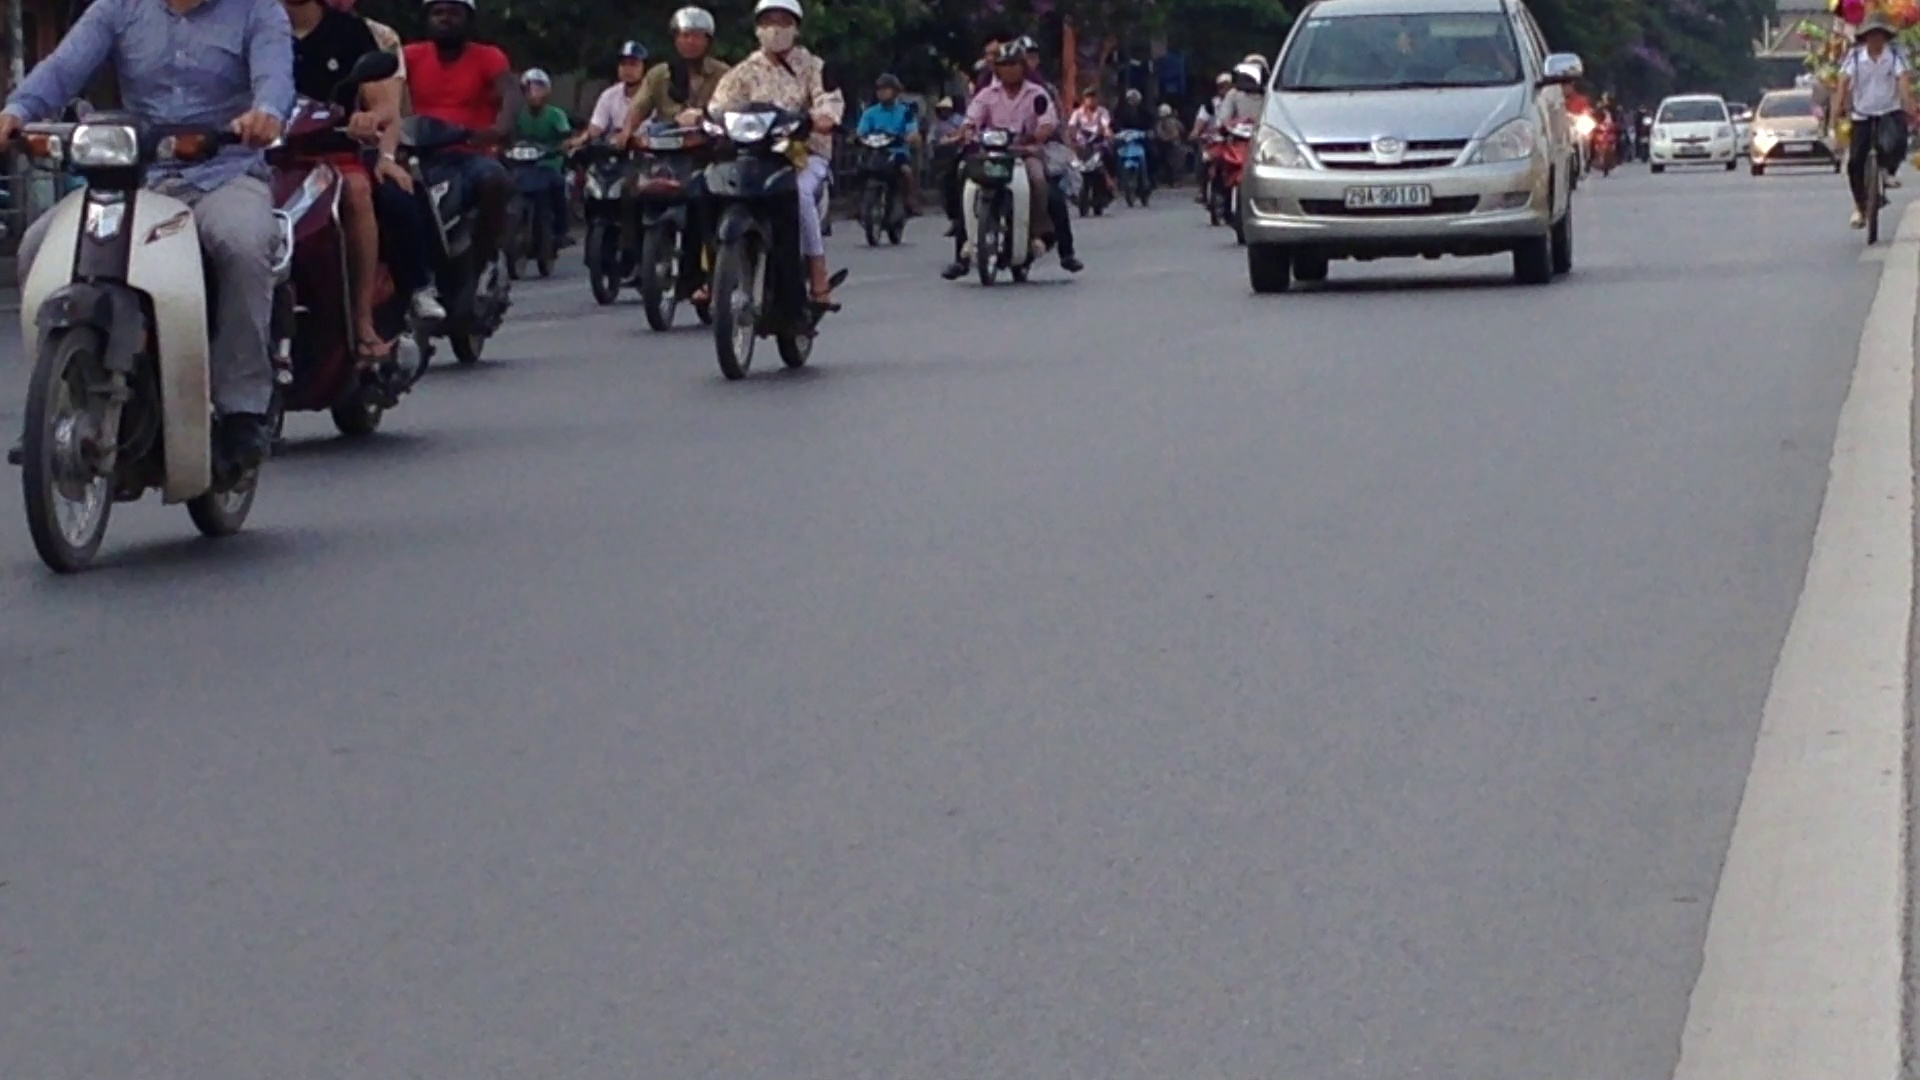person: (1340, 177, 1436, 212)
